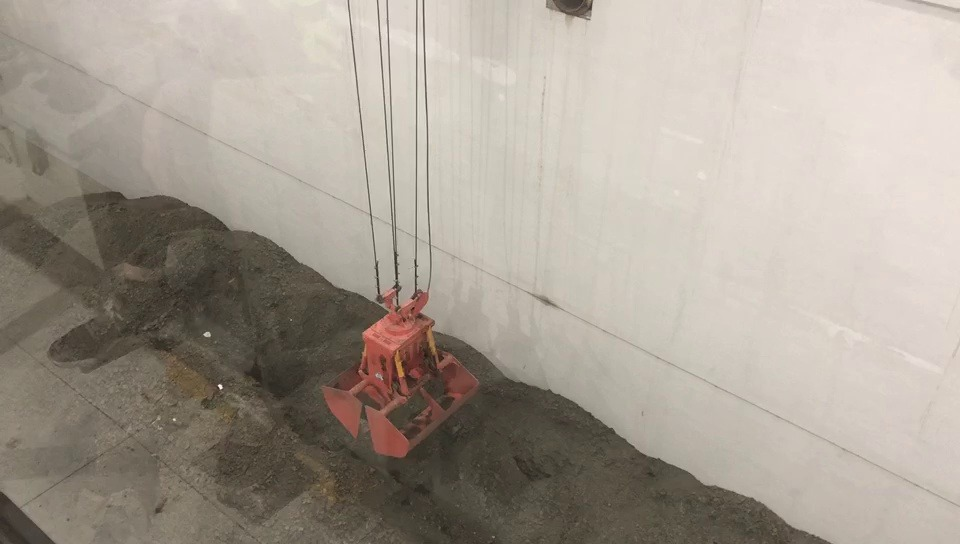grab: (319, 279, 485, 460)
